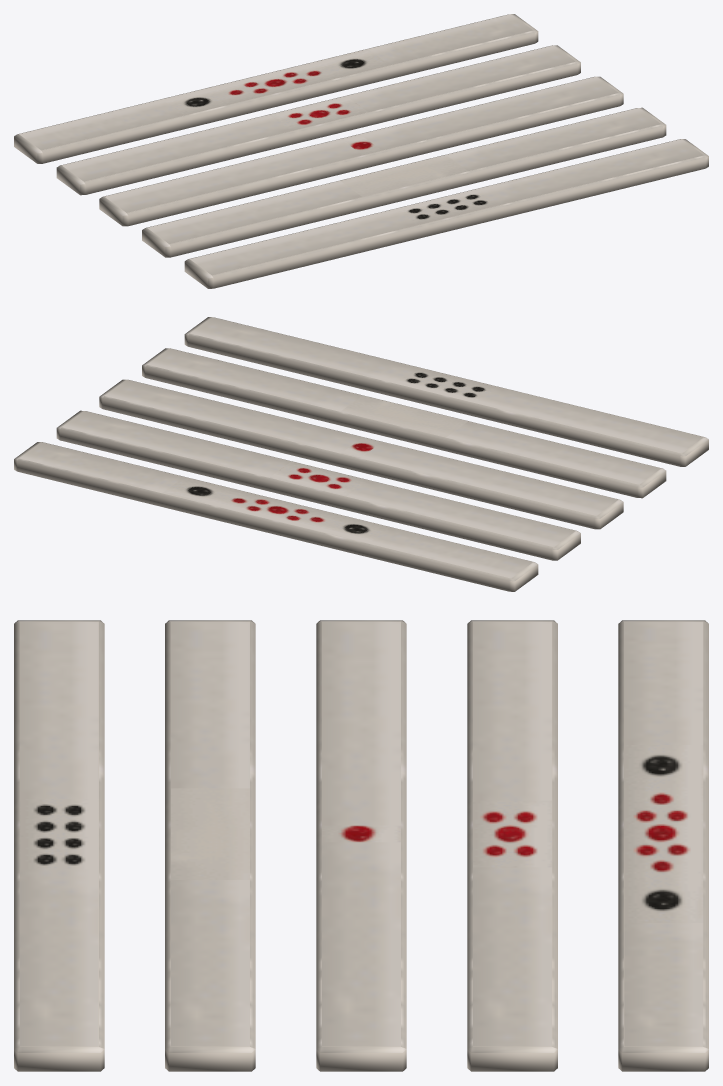
Rendered from Mahjong_Tenbow.fbx.
The picture shows the model from 3 angles, top to bottom: view 1: azimuth 30°, elevation 25°; view 2: azimuth 150°, elevation 25°; view 3: azimuth 270°, elevation 25°; orthographic projection. The views are drawn at different scales.
Parts seen in each view (by area): view 1: TenBow_1000, TenBow_5000, TenBow_White, TenBow_10000, TenBow_100; view 2: TenBow_1000, TenBow_5000, TenBow_White, TenBow_10000, TenBow_100; view 3: TenBow_5000, TenBow_1000, TenBow_White, TenBow_10000, TenBow_100.
Boxes of the visible parts, x1=… form: TenBow_1000: x1=99, y1=76, x2=623, y2=226; TenBow_5000: x1=56, y1=45, x2=580, y2=195; TenBow_White: x1=142, y1=107, x2=666, y2=257; TenBow_10000: x1=14, y1=14, x2=538, y2=163; TenBow_100: x1=184, y1=139, x2=708, y2=288; TenBow_1000: x1=99, y1=379, x2=623, y2=529; TenBow_5000: x1=56, y1=410, x2=580, y2=560; TenBow_White: x1=142, y1=348, x2=666, y2=498; TenBow_10000: x1=14, y1=442, x2=538, y2=591; TenBow_100: x1=184, y1=317, x2=708, y2=466; TenBow_5000: x1=467, y1=620, x2=557, y2=1071; TenBow_1000: x1=316, y1=620, x2=406, y2=1071; TenBow_White: x1=165, y1=620, x2=255, y2=1071; TenBow_10000: x1=618, y1=620, x2=708, y2=1071; TenBow_100: x1=14, y1=620, x2=104, y2=1071.
Bounding box in the file's own units: 6.78 × 0.1734 × 4.6.
